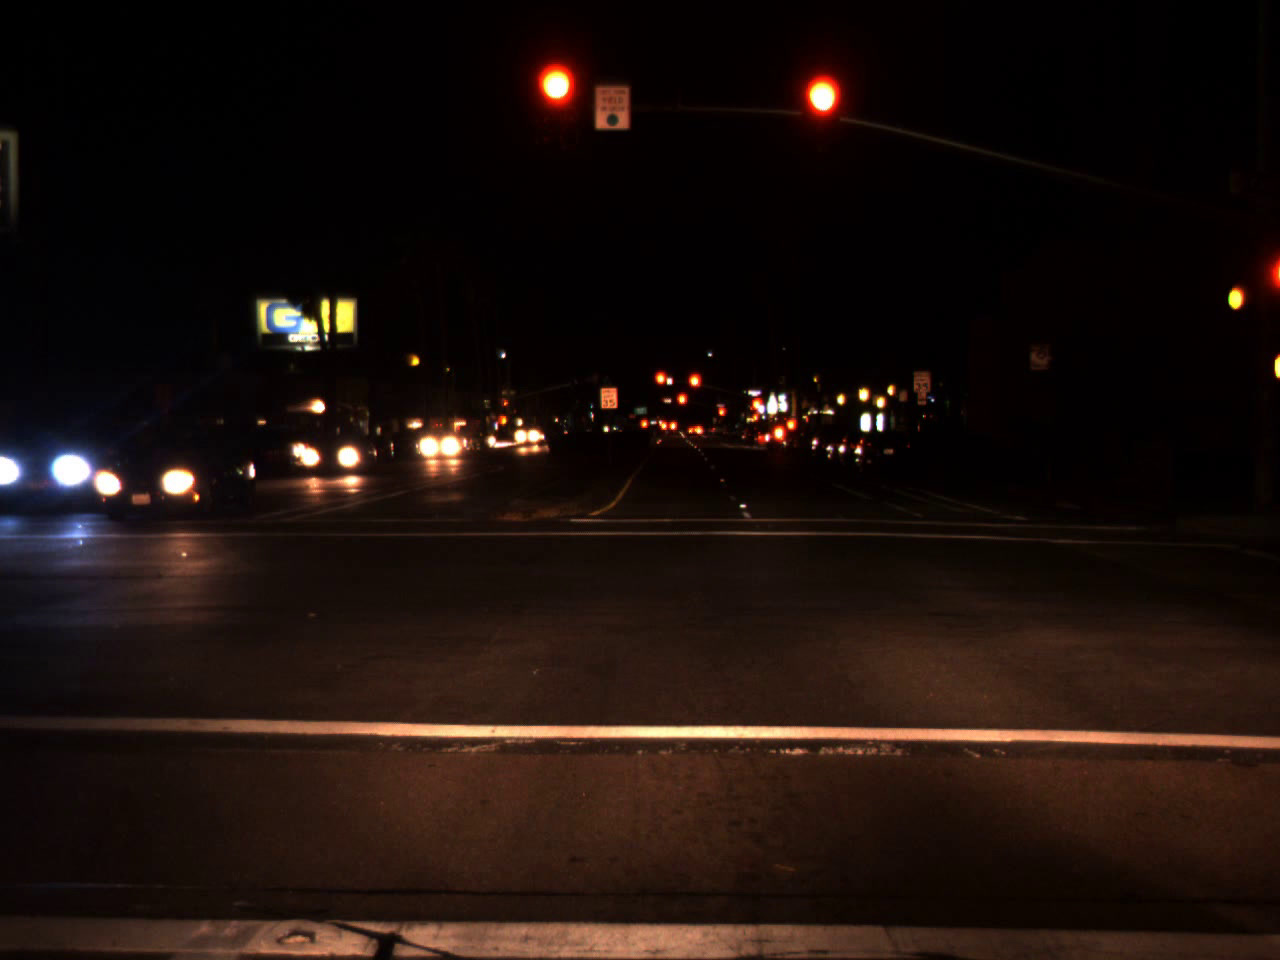stop: (538, 65, 578, 143), (801, 75, 840, 153), (653, 370, 671, 399), (686, 371, 702, 403), (748, 398, 766, 419), (676, 391, 688, 418), (717, 406, 727, 427), (503, 398, 509, 414)
